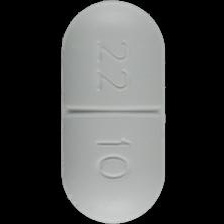53808-0797: (0, 0, 224, 224)
